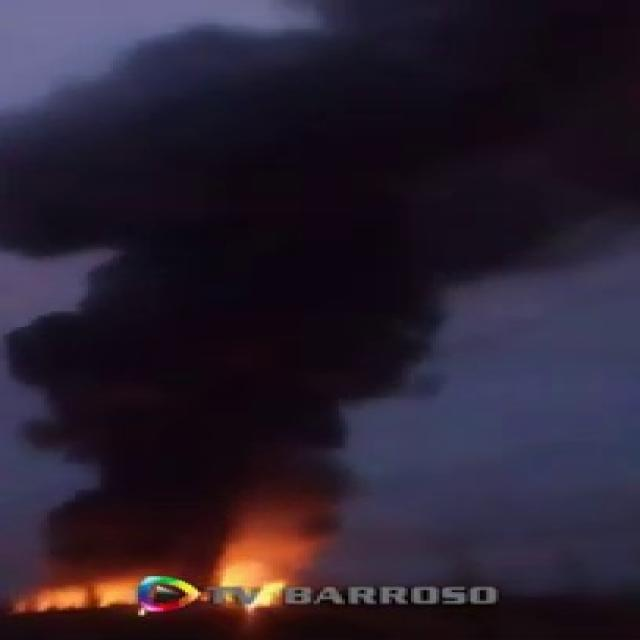Fire: (0, 471, 376, 629)
Smoke: (9, 0, 640, 546)
